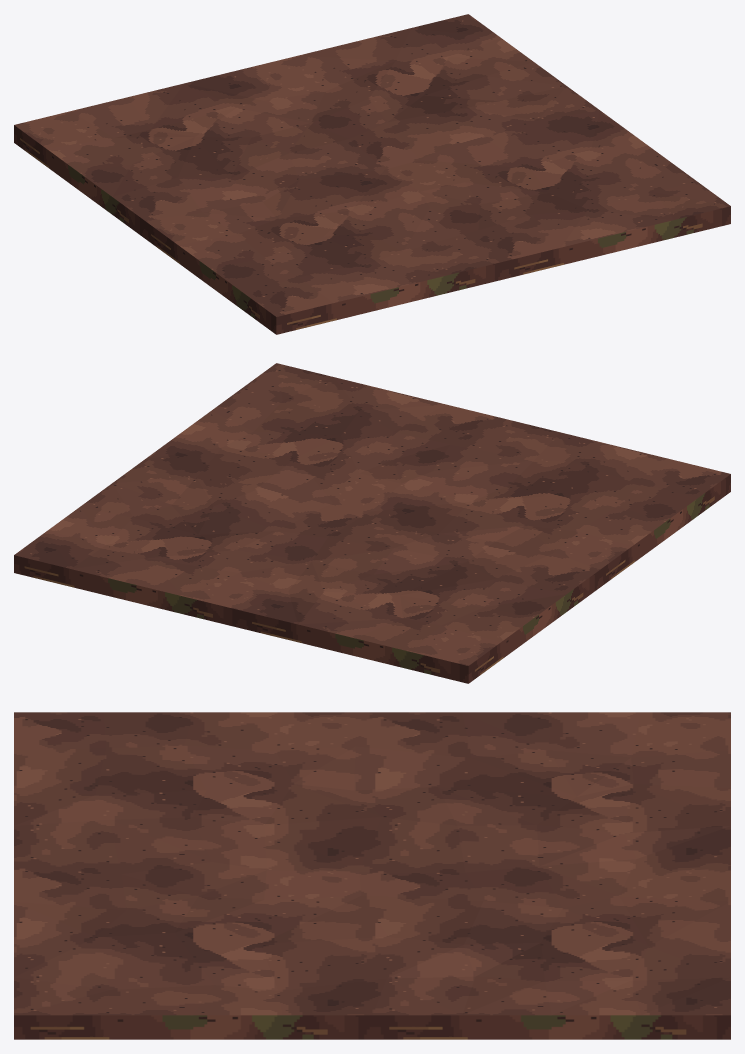
Rendered from SM_AN06_EarthFloor.fbx.
3 views of the same model, one above another, from view 1: azimuth 30°, elevation 25°; view 2: azimuth 150°, elevation 25°; view 3: azimuth 270°, elevation 25° (orthographic). The views are drawn at different scales.
Visible parts, largest first — view 1: AN06a_Floor, AN06a_Earth; view 2: AN06a_Floor, AN06a_Earth; view 3: AN06a_Floor, AN06a_Earth.
Boxes of the visible parts, left/top/right/bottom form: AN06a_Floor: left=14, top=14, right=730, bottom=316; AN06a_Earth: left=14, top=125, right=730, bottom=334; AN06a_Floor: left=14, top=363, right=730, bottom=665; AN06a_Earth: left=14, top=474, right=730, bottom=683; AN06a_Floor: left=14, top=712, right=730, bottom=1015; AN06a_Earth: left=14, top=1015, right=730, bottom=1039.
Size of the model in its own units: 4 by 0.1689 by 4.
